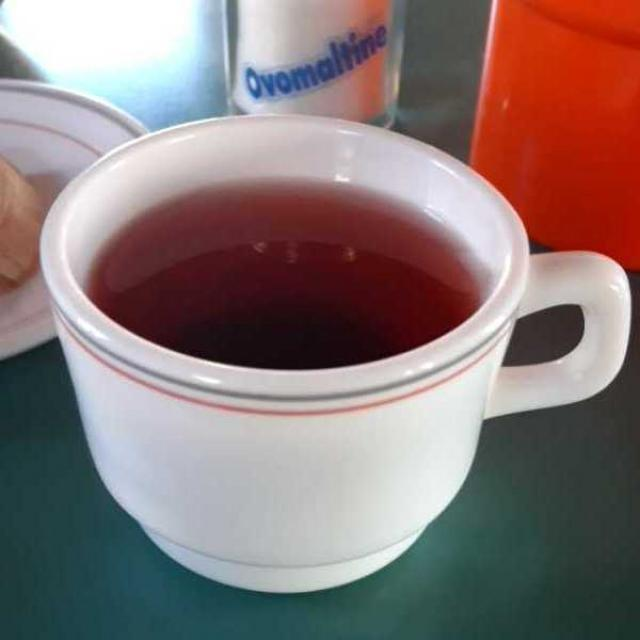tea: (97, 197, 471, 366)
